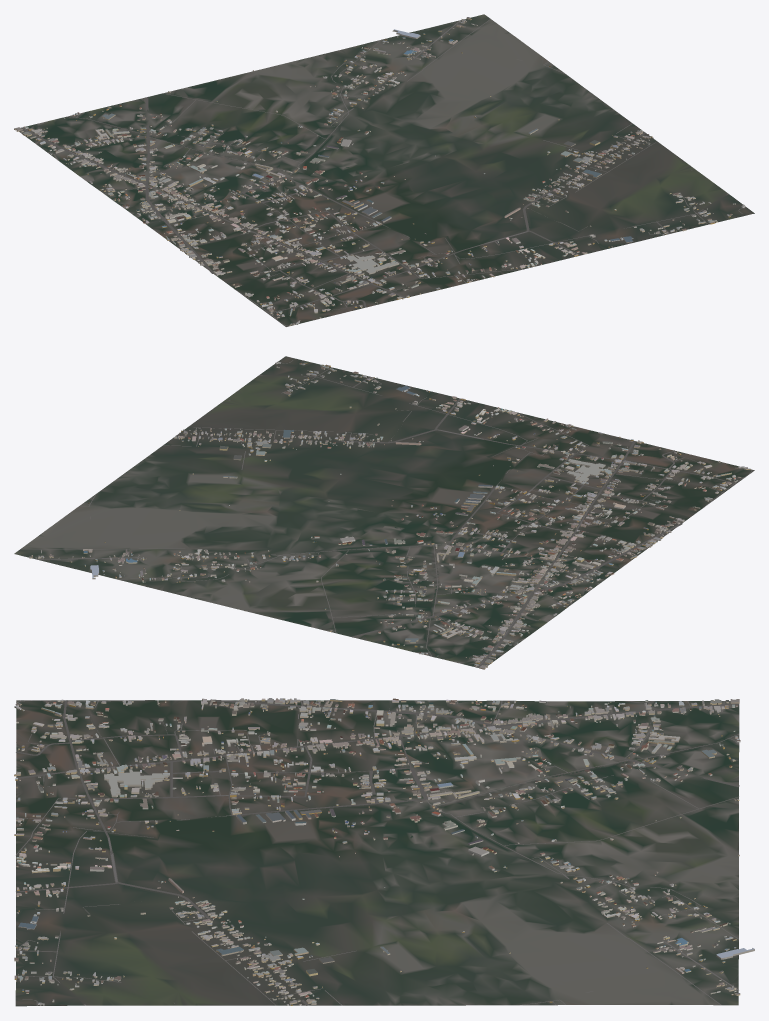
The picture shows the model from 3 angles, top to bottom: view 1: azimuth 30°, elevation 25°; view 2: azimuth 150°, elevation 25°; view 3: azimuth 270°, elevation 25°; orthographic projection. The views are drawn at different scales.
Parts seen in each view (by area): view 1: ground, buildings, roads; view 2: ground, buildings, roads; view 3: ground, buildings, roads.
Part boxes in pixels (x1,y1,x2,y2): ground: (19,14,754,326); buildings: (14,17,745,325); roads: (21,19,746,326); ground: (14,356,754,667); buildings: (29,362,750,669); roads: (21,360,752,667); ground: (15,700,739,1006); buildings: (14,698,754,1005); roads: (16,699,739,1005).
Bounding box in the file's own units: 2810 × 19.1 × 2871.
